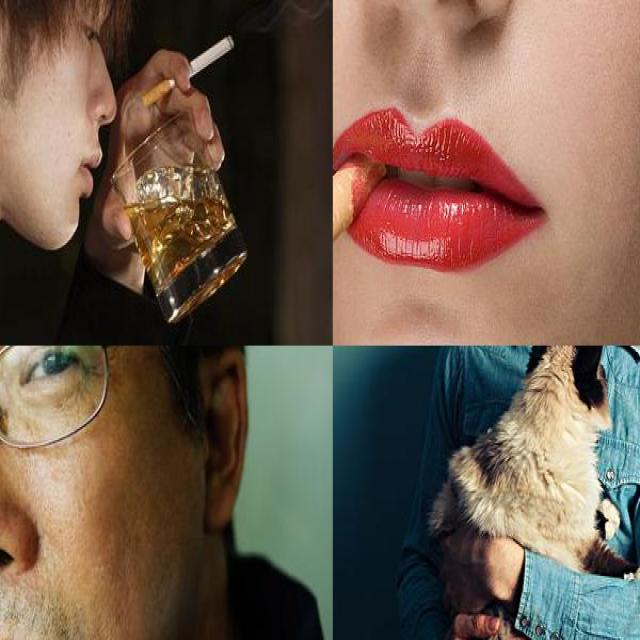cigarette: (140, 36, 237, 110)
